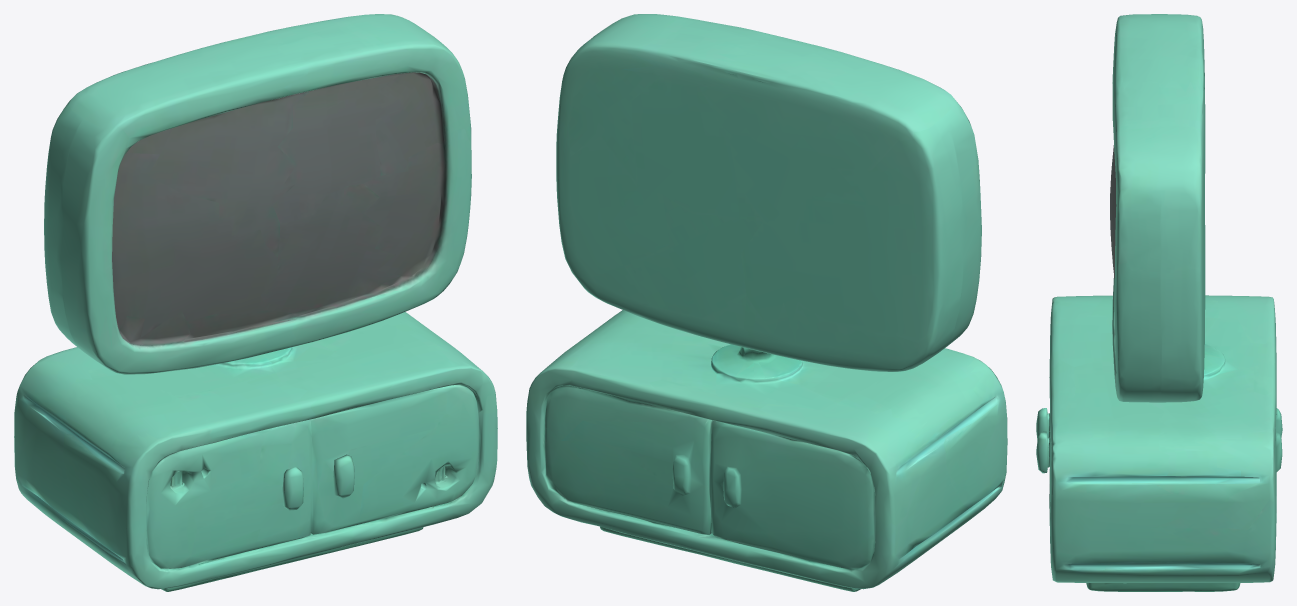
Rendered from living_tv_cabinet.glb.
The picture shows the model from 3 angles, left to right: view 1: azimuth 30°, elevation 25°; view 2: azimuth 150°, elevation 25°; view 3: azimuth 270°, elevation 25°; orthographic projection. The views are drawn at different scales.
Visible parts, largest first — view 1: tripo_node_7964bb28-a214-4d87-882d-54b7f8e26fb5; view 2: tripo_node_7964bb28-a214-4d87-882d-54b7f8e26fb5; view 3: tripo_node_7964bb28-a214-4d87-882d-54b7f8e26fb5.
Part boxes in pixels (bbox=[...]): tripo_node_7964bb28-a214-4d87-882d-54b7f8e26fb5: bbox=[14, 14, 497, 591]; tripo_node_7964bb28-a214-4d87-882d-54b7f8e26fb5: bbox=[526, 14, 1007, 591]; tripo_node_7964bb28-a214-4d87-882d-54b7f8e26fb5: bbox=[1036, 14, 1282, 591].
Bounding box in the file's own units: 1.19 × 1.4 × 0.6788.
1 material, 1 textured.
